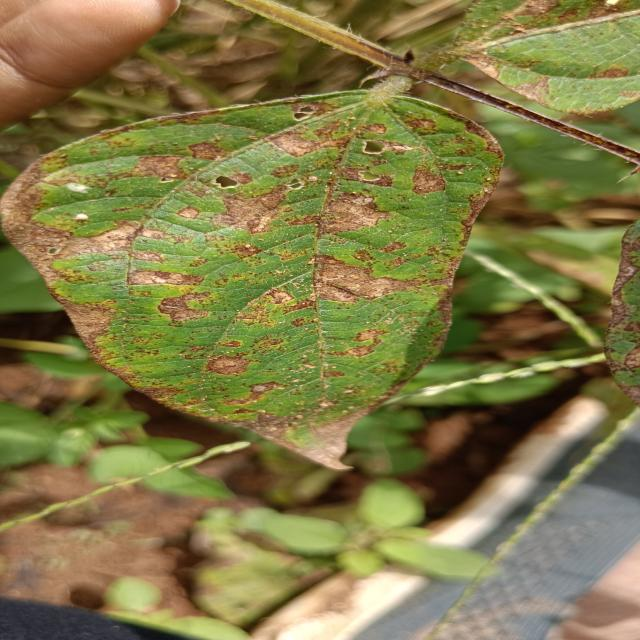Black gram_leaf spot: (10, 82, 516, 464)
